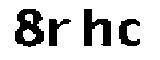8: (11, 5, 47, 48)
c: (115, 15, 148, 49)
h: (77, 1, 114, 51)
r: (47, 16, 73, 49)
